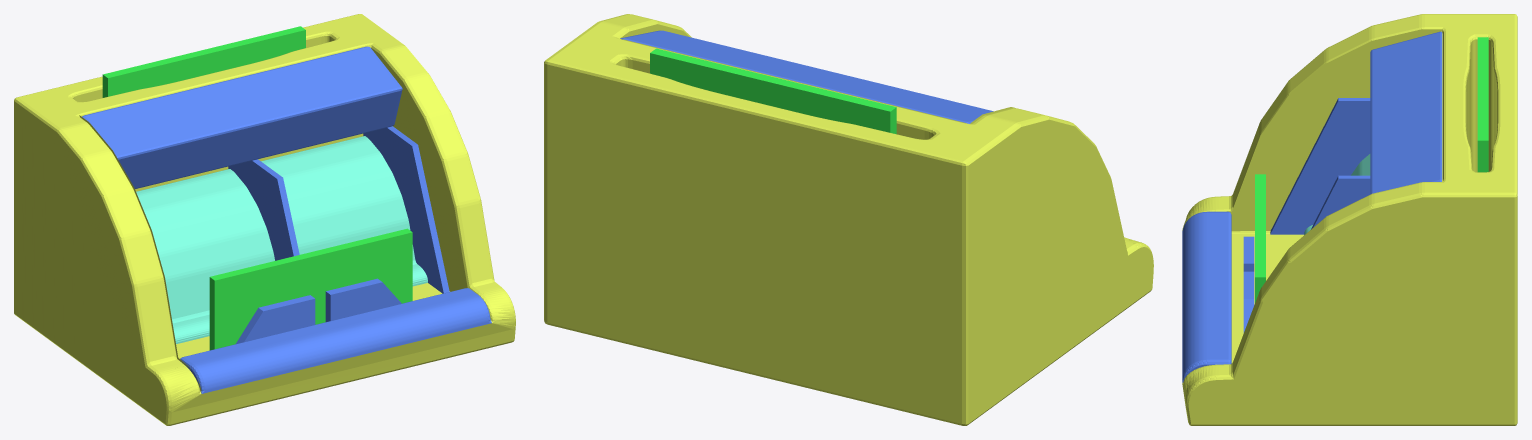
The model's file is moneymachine_2.obj.
3 views of the same model, side by side, from view 1: azimuth 30°, elevation 25°; view 2: azimuth 150°, elevation 25°; view 3: azimuth 270°, elevation 25° (orthographic). The views are drawn at different scales.
Parts seen in each view (by area): view 1: Cube.029_Material, Cube.029_Material.001, Cube.029_Material.005, Cube.029_Material.002; view 2: Cube.029_Material, Cube.029_Material.002, Cube.029_Material.001; view 3: Cube.029_Material, Cube.029_Material.001, Cube.029_Material.002.
Boxes of the visible parts, box(x1,y1,x2,y2) form: Cube.029_Material: box(14, 14, 515, 425); Cube.029_Material.001: box(82, 46, 491, 393); Cube.029_Material.005: box(136, 136, 427, 344); Cube.029_Material.002: box(102, 26, 412, 350); Cube.029_Material: box(544, 14, 1153, 425); Cube.029_Material.002: box(650, 48, 896, 134); Cube.029_Material.001: box(620, 30, 993, 123); Cube.029_Material: box(1182, 14, 1517, 425); Cube.029_Material.001: box(1182, 31, 1442, 382); Cube.029_Material.002: box(1255, 37, 1488, 302).
Bounding box in the file's own units: 16.82 × 10.67 × 13.1.
